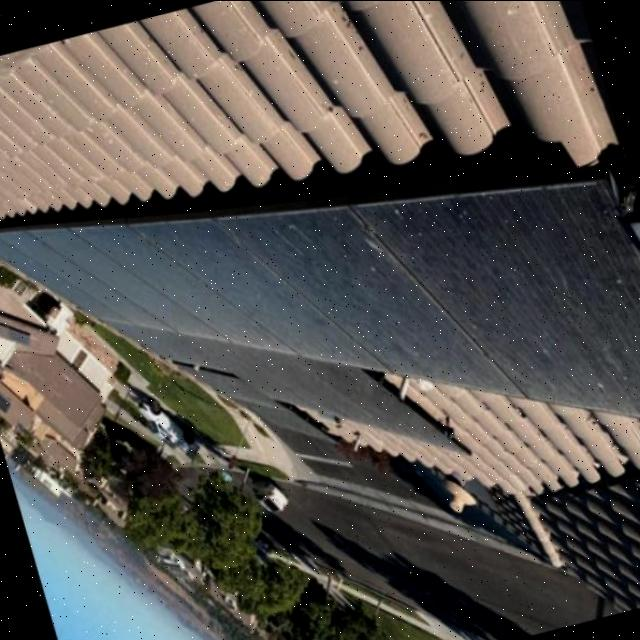Anomaly Solar Panel: (0, 180, 640, 456)
Surface Contaminant: (0, 184, 640, 416)
